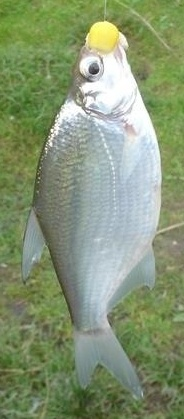Blicca bjoerkna: (20, 20, 164, 399)
